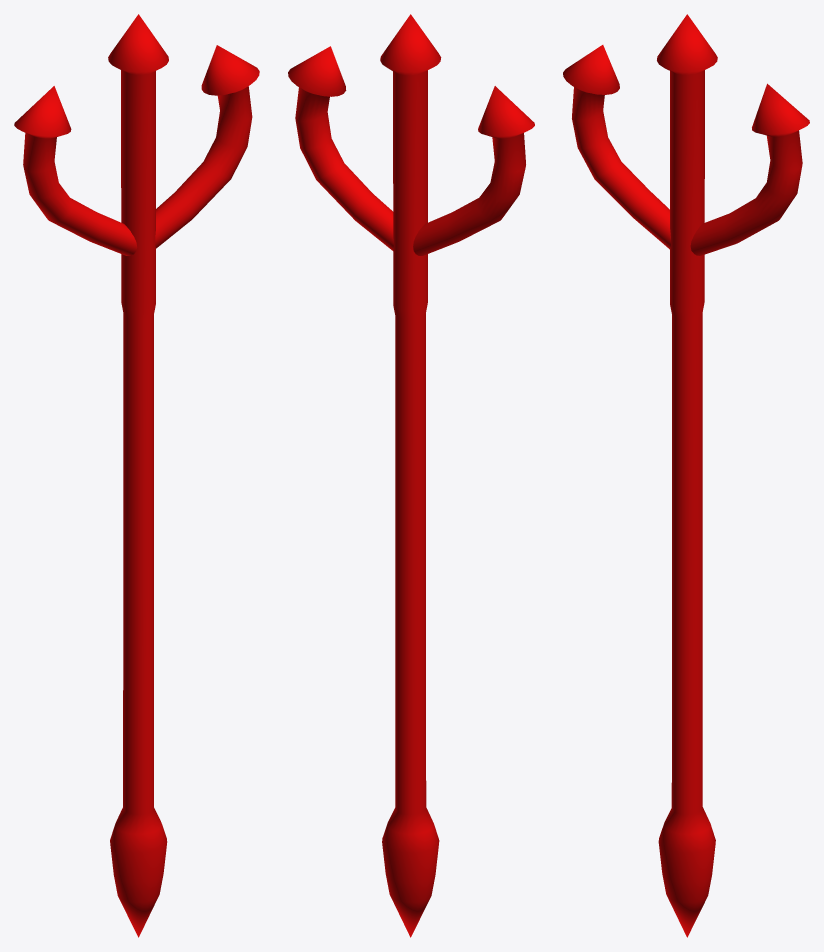
Rendered from Pitchfork nw.fbx.
3 views of the same model, side by side, from view 1: azimuth 30°, elevation 25°; view 2: azimuth 150°, elevation 25°; view 3: azimuth 330°, elevation 25° (orthographic).
Parts seen in each view (by area): view 1: pCylinder4; view 2: pCylinder4; view 3: pCylinder4.
Boxes of the visible parts, x1,y1,x2,y2 form: pCylinder4: [14, 14, 259, 937]; pCylinder4: [288, 14, 534, 937]; pCylinder4: [563, 14, 809, 937].
Size of the model in its own units: 59.72 by 219 by 13.51.
